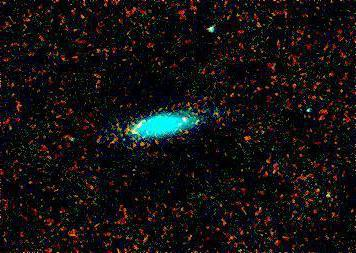star: (317, 180, 347, 210)
